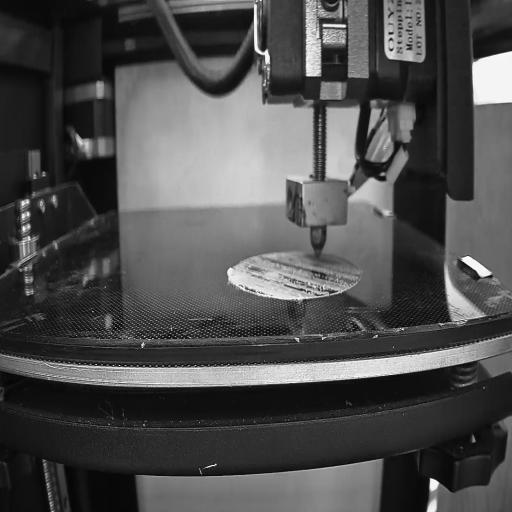under_extrusion: (273, 259, 359, 290), (239, 261, 270, 292)
